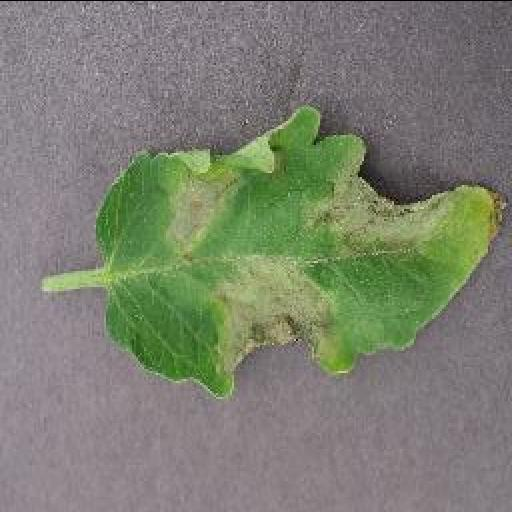disease_tomato: (94, 104, 510, 396)
